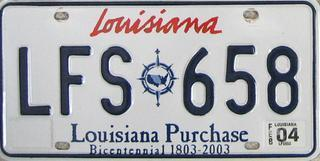placa de veiculo: (4, 3, 317, 159)
